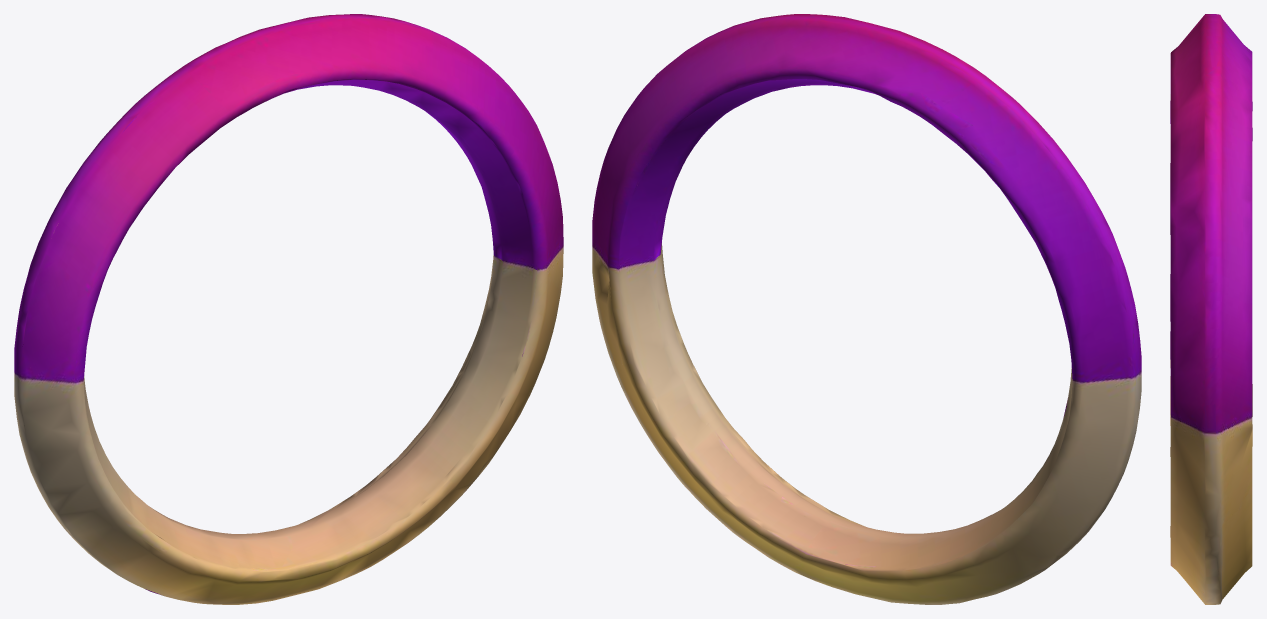
The model's file is vesna_piece-CL64x-Kb.glb.
The picture shows the model from 3 angles, left to right: view 1: azimuth 30°, elevation 25°; view 2: azimuth 150°, elevation 25°; view 3: azimuth 270°, elevation 25°; orthographic projection. The views are drawn at different scales.
Parts seen in each view (by area): view 1: vesna_piece; view 2: vesna_piece; view 3: vesna_piece.
Part boxes in pixels (left/top/right/bottom): vesna_piece: left=14, top=14, right=563, bottom=604; vesna_piece: left=592, top=14, right=1141, bottom=604; vesna_piece: left=1170, top=14, right=1252, bottom=604.
Bounding box in the file's own units: 0.9975 × 1 × 0.1397.
Materials: 1 (1 with a texture image).
